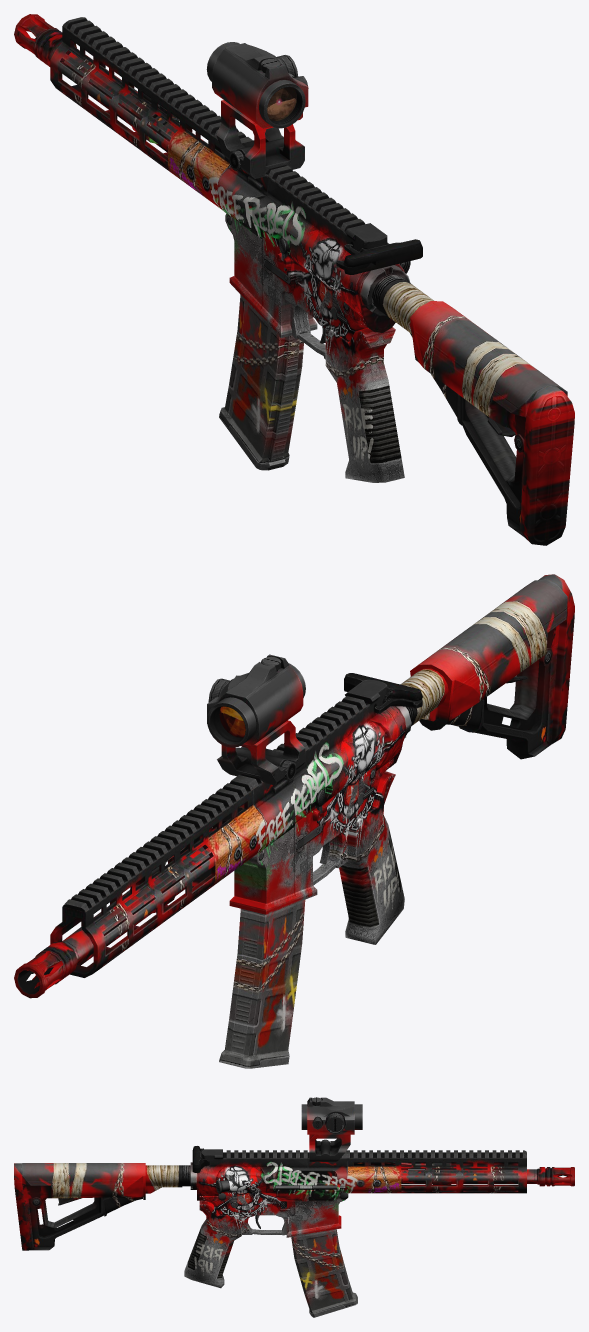
File: Noveske_N4_OutBreak.glb
The picture shows the model from 3 angles, top to bottom: view 1: azimuth 30°, elevation 25°; view 2: azimuth 150°, elevation 25°; view 3: azimuth 270°, elevation 25°; orthographic projection. The views are drawn at different scales.
Parts seen in each view (by area): view 1: Noveske_N4_LOD0; view 2: Noveske_N4_LOD0; view 3: Noveske_N4_LOD0.
Boxes of the visible parts, x1=… form: Noveske_N4_LOD0: x1=14, y1=14, x2=574, y2=545; Noveske_N4_LOD0: x1=14, y1=574, x2=574, y2=1068; Noveske_N4_LOD0: x1=14, y1=1097, x2=574, y2=1317.
Size of the model in its own units: 0.000779 by 0.00332 by 0.00786.
Materials: 4 (4 with a texture image).
